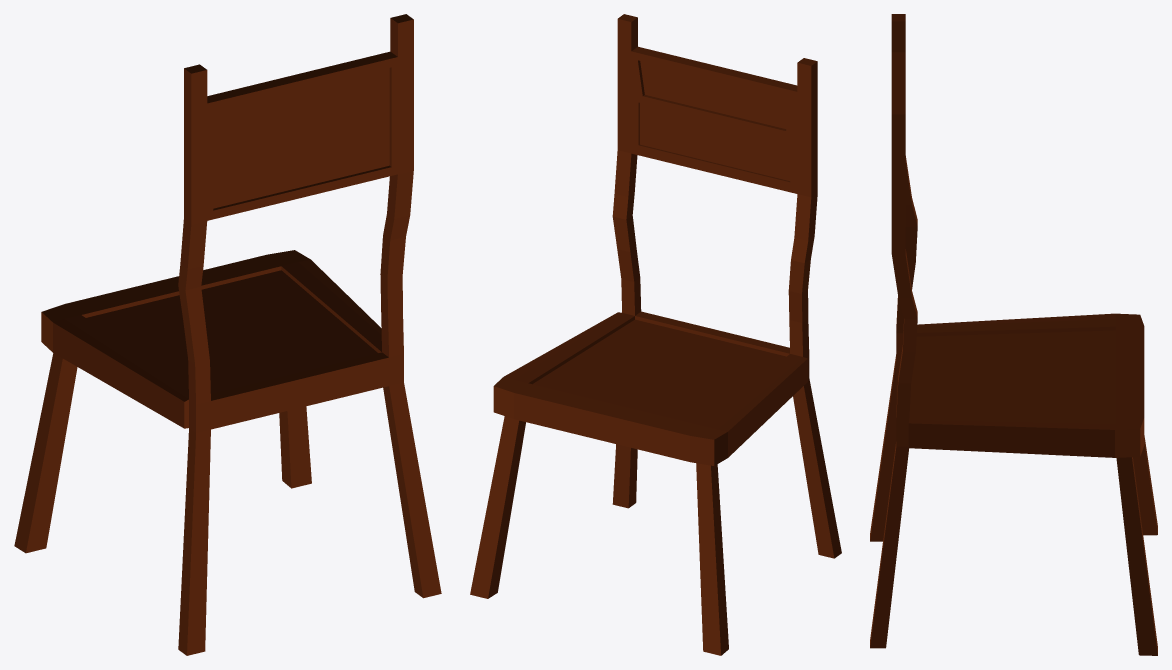
File: Chair 4.fbx
The picture shows the model from 3 angles, left to right: view 1: azimuth 30°, elevation 25°; view 2: azimuth 150°, elevation 25°; view 3: azimuth 270°, elevation 25°; orthographic projection. The views are drawn at different scales.
Visible parts, largest first — view 1: Node 0; view 2: Node 0; view 3: Node 0.
Boxes of the visible parts, <box> form: Node 0: <box>14,14,441,655</box>; Node 0: <box>470,14,841,655</box>; Node 0: <box>870,14,1157,655</box>.
Bounding box in the file's own units: 0.6674 × 1.35 × 0.7142.
